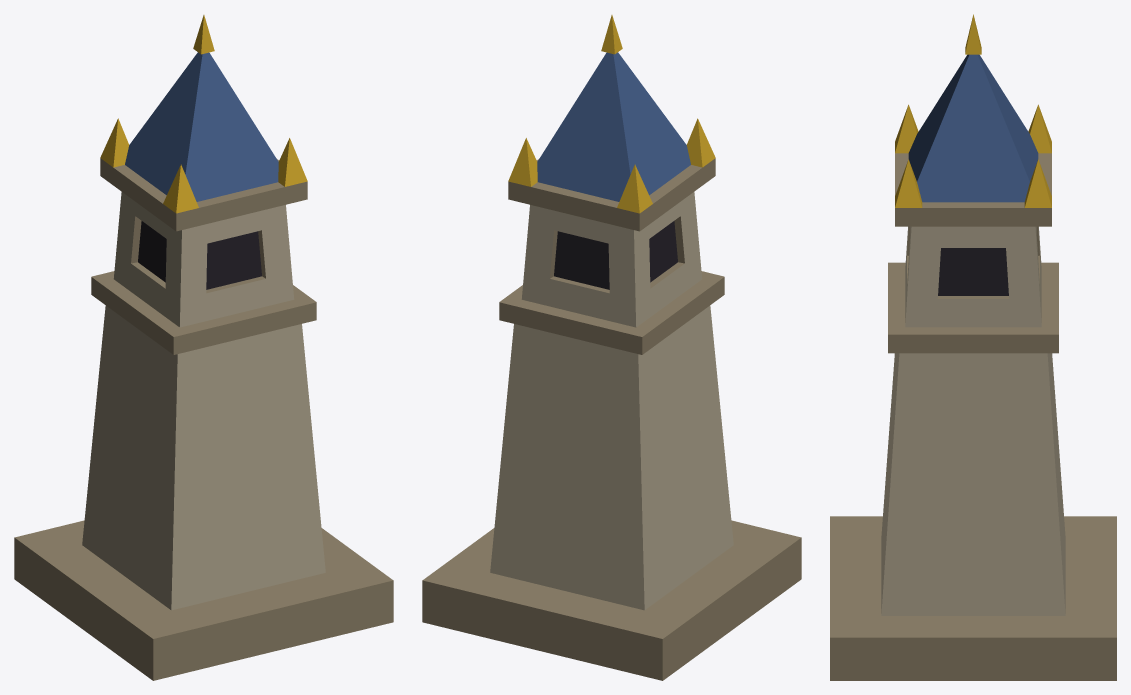
File: great_tower.glb
The picture shows the model from 3 angles, left to right: view 1: azimuth 30°, elevation 25°; view 2: azimuth 150°, elevation 25°; view 3: azimuth 270°, elevation 25°; orthographic projection. The views are drawn at different scales.
Visible parts, largest first — view 1: shaft, plinth, belfry, spire, ring, cornice, pinnacle4, pinnacle3, pinnacle2; view 2: shaft, plinth, belfry, spire, ring, cornice, pinnacle2, pinnacle1, pinnacle4; view 3: shaft, plinth, belfry, spire, ring, cornice, pinnacle1, pinnacle3, pinnacle2, pinnacle4.
Part boxes in pixels (x1,y1,x2,y2): shaft: [82, 305, 325, 610]; plinth: [14, 520, 393, 680]; belfry: [113, 192, 294, 327]; spire: [125, 52, 278, 201]; ring: [91, 271, 316, 354]; cornice: [100, 158, 307, 231]; pinnacle4: [163, 164, 198, 213]; pinnacle3: [278, 138, 307, 186]; pinnacle2: [100, 118, 129, 167]; shaft: [490, 305, 733, 610]; plinth: [422, 520, 801, 680]; belfry: [521, 192, 702, 327]; spire: [537, 52, 690, 201]; ring: [499, 271, 724, 354]; cornice: [508, 158, 715, 231]; pinnacle2: [617, 164, 652, 213]; pinnacle1: [508, 138, 537, 186]; pinnacle4: [686, 118, 715, 167]; shaft: [881, 353, 1065, 615]; plinth: [830, 516, 1116, 680]; belfry: [905, 226, 1041, 327]; spire: [908, 54, 1038, 202]; ring: [888, 262, 1058, 353]; cornice: [895, 153, 1051, 226]; pinnacle1: [1024, 159, 1051, 207]; pinnacle3: [895, 159, 922, 207]; pinnacle2: [1028, 104, 1051, 153]; pinnacle4: [895, 104, 918, 153].
Bounding box in the file's own units: 0.42 × 0.98 × 0.42.
